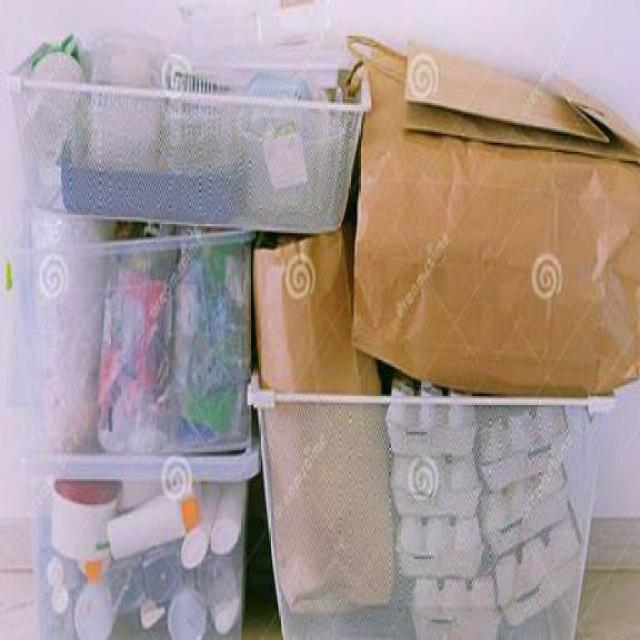paper: (348, 31, 640, 396)
plastic: (19, 449, 268, 640)
